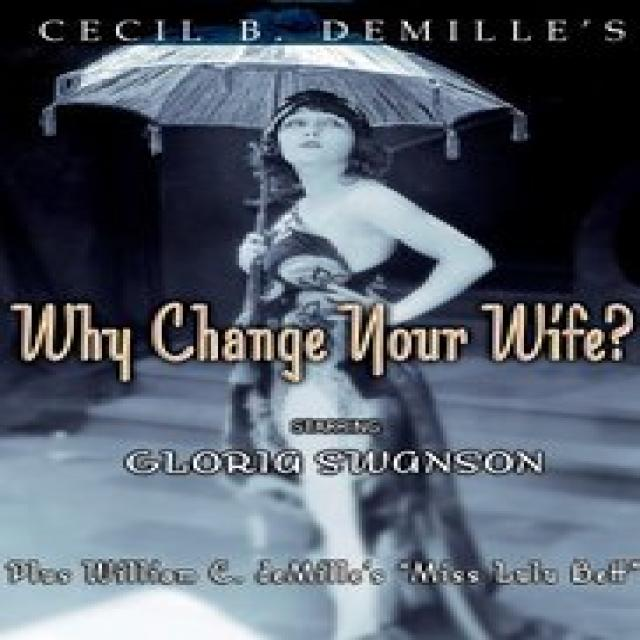movie-judul: (12, 271, 640, 389)
picture: (45, 45, 573, 640)
